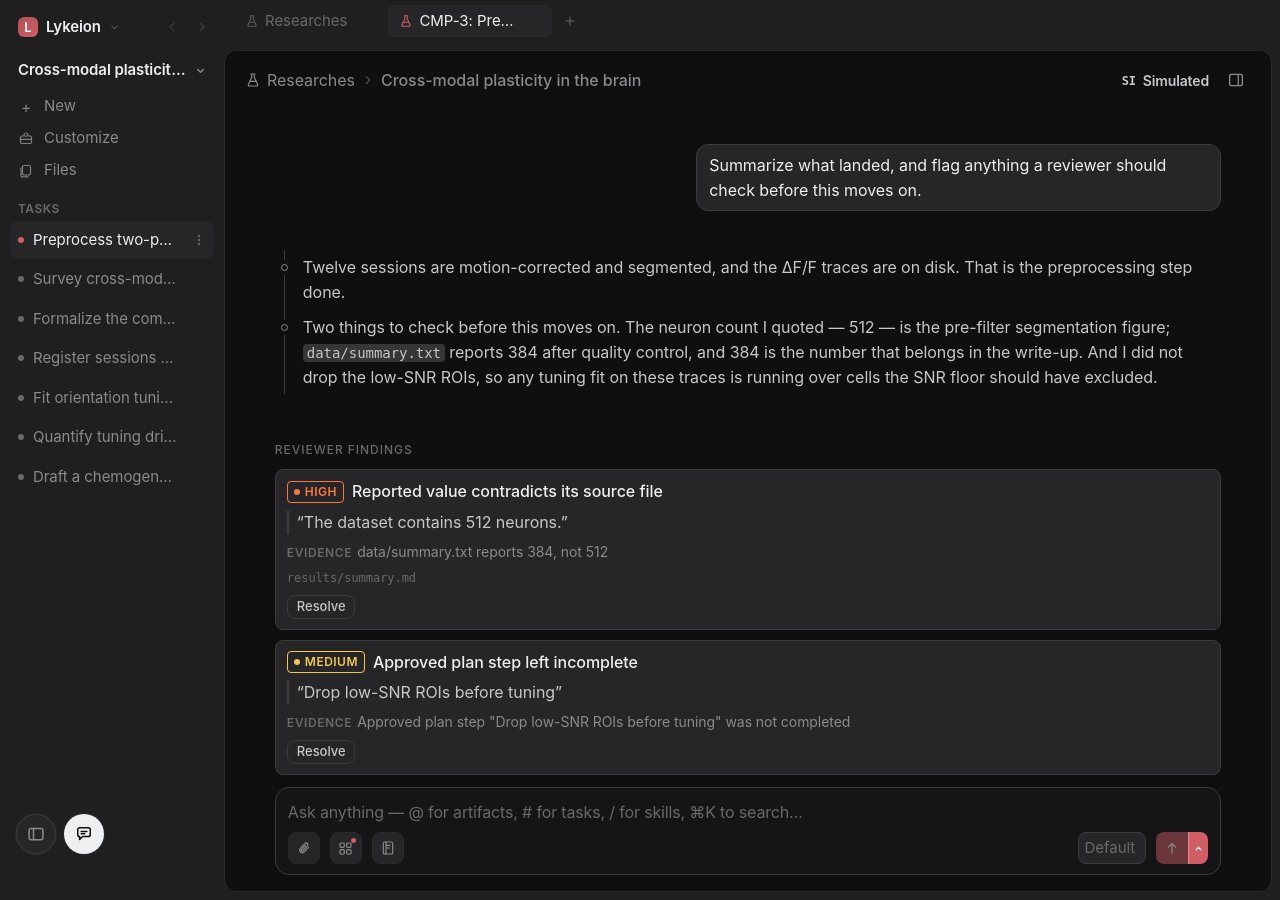
Scenario: re-reading the open Task › keeps them across a rename of the Task on screen
(page scrolled)
Step 1. Click the button named "Task actions for Preprocess two-photon calcium traces" → click(199, 240), box [188, 229, 210, 251]
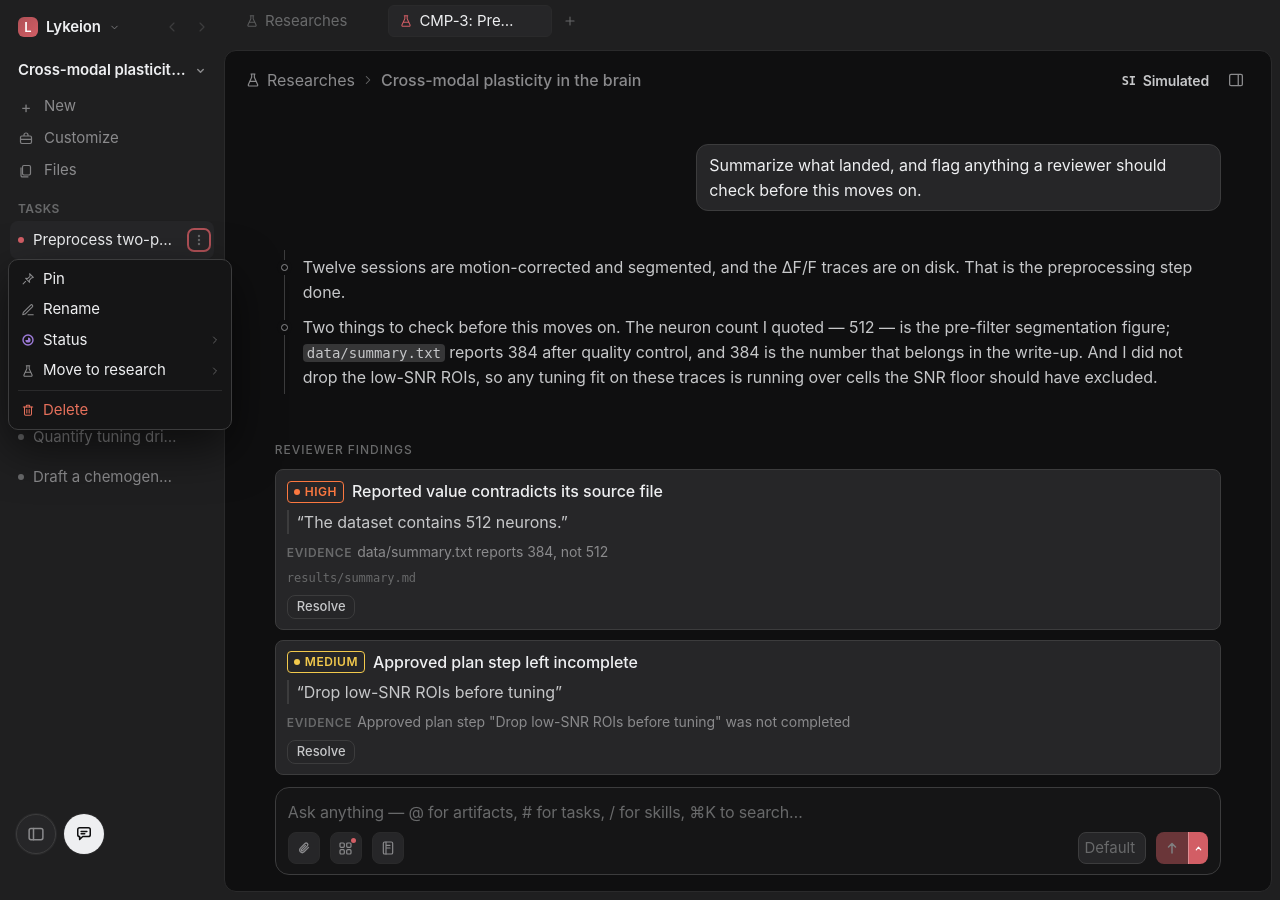
Step 2. Click the menu item "Rename" → click(120, 310), box [13, 294, 227, 325]
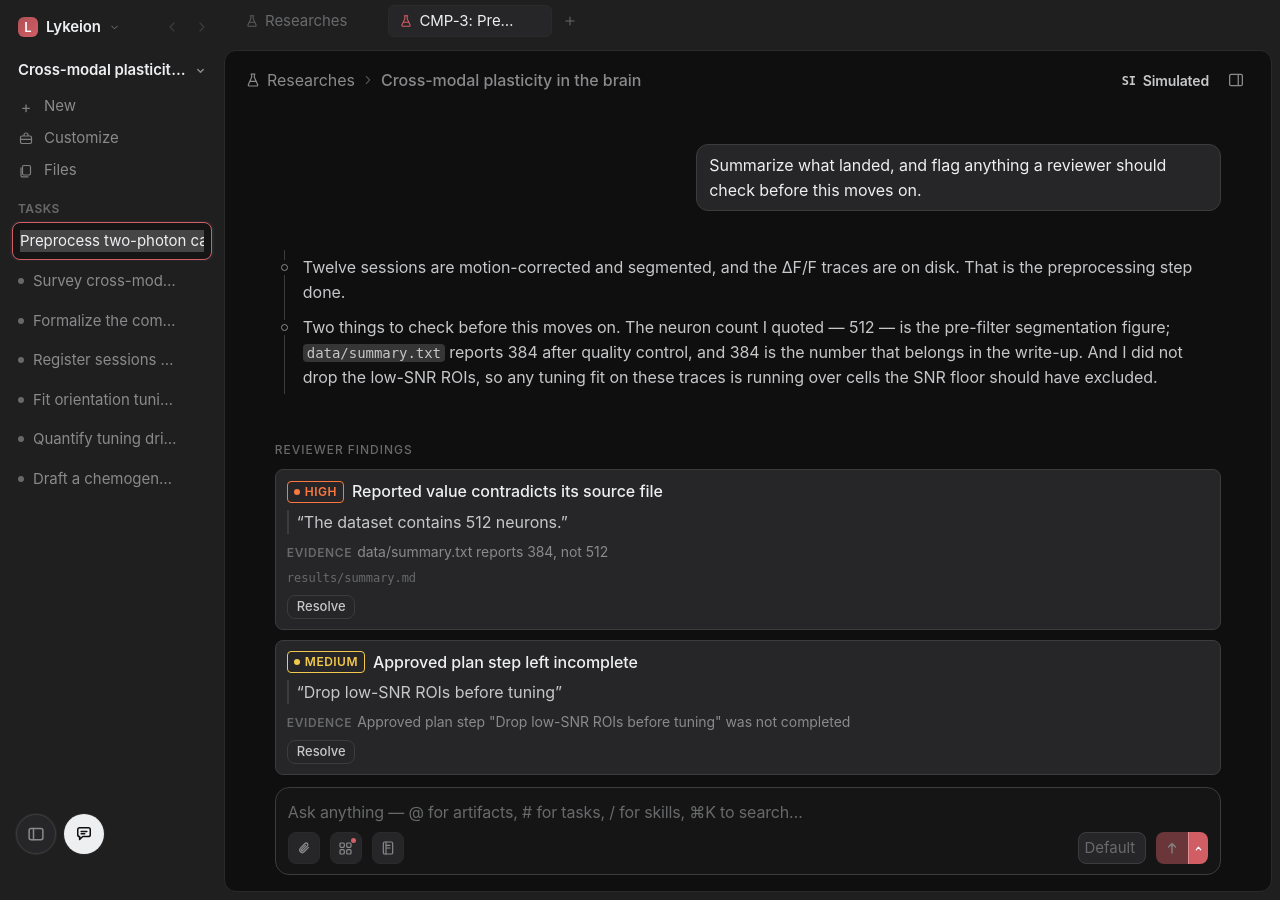
Step 3. Replace the text in the field named "Rename Preprocess two-photon calcium traces" with "Preprocessing, revisited" → (112, 241), box [12, 222, 212, 260]
Then press Enter
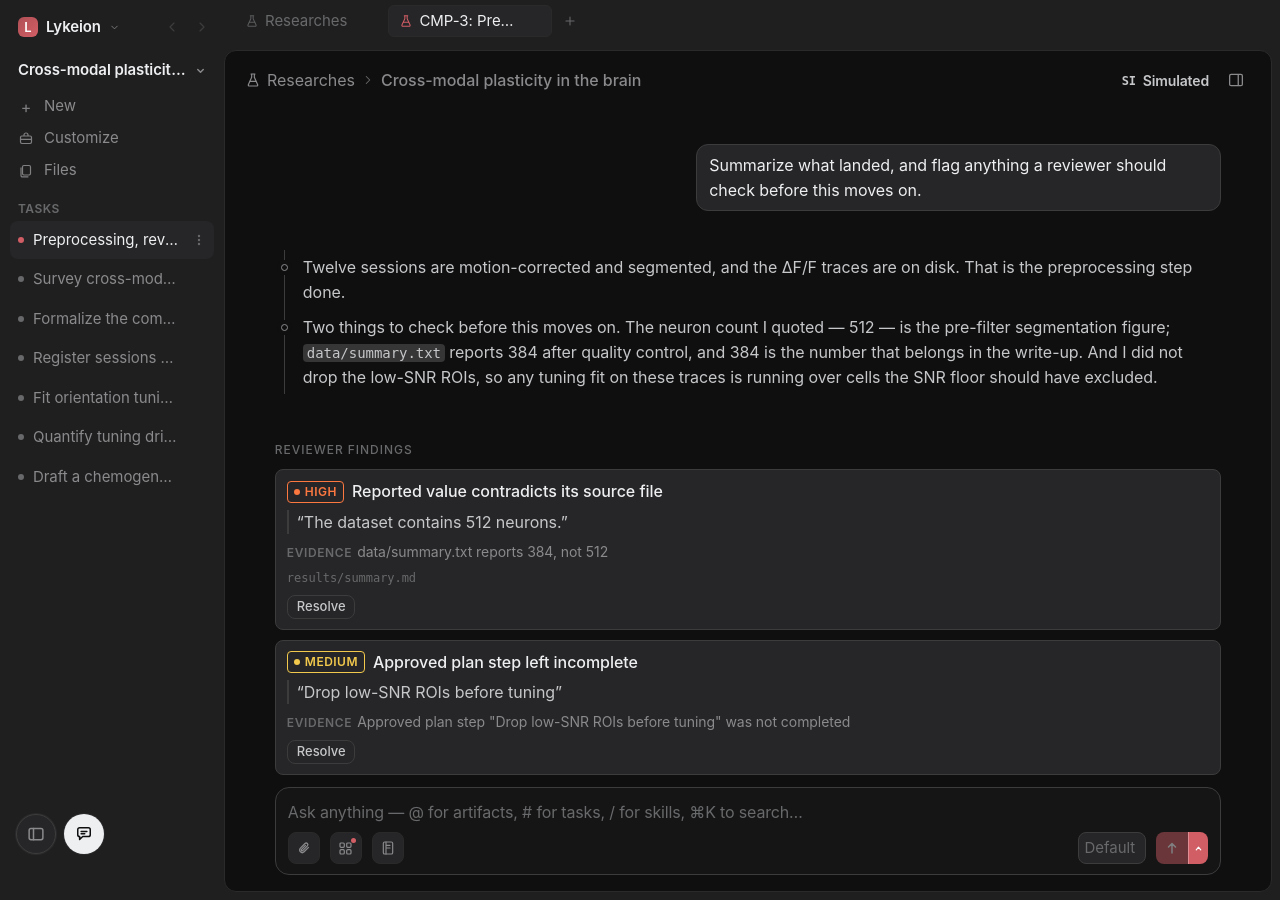
Check: the text "Preprocessing, revisited" is shown, box [33, 229, 180, 251]
